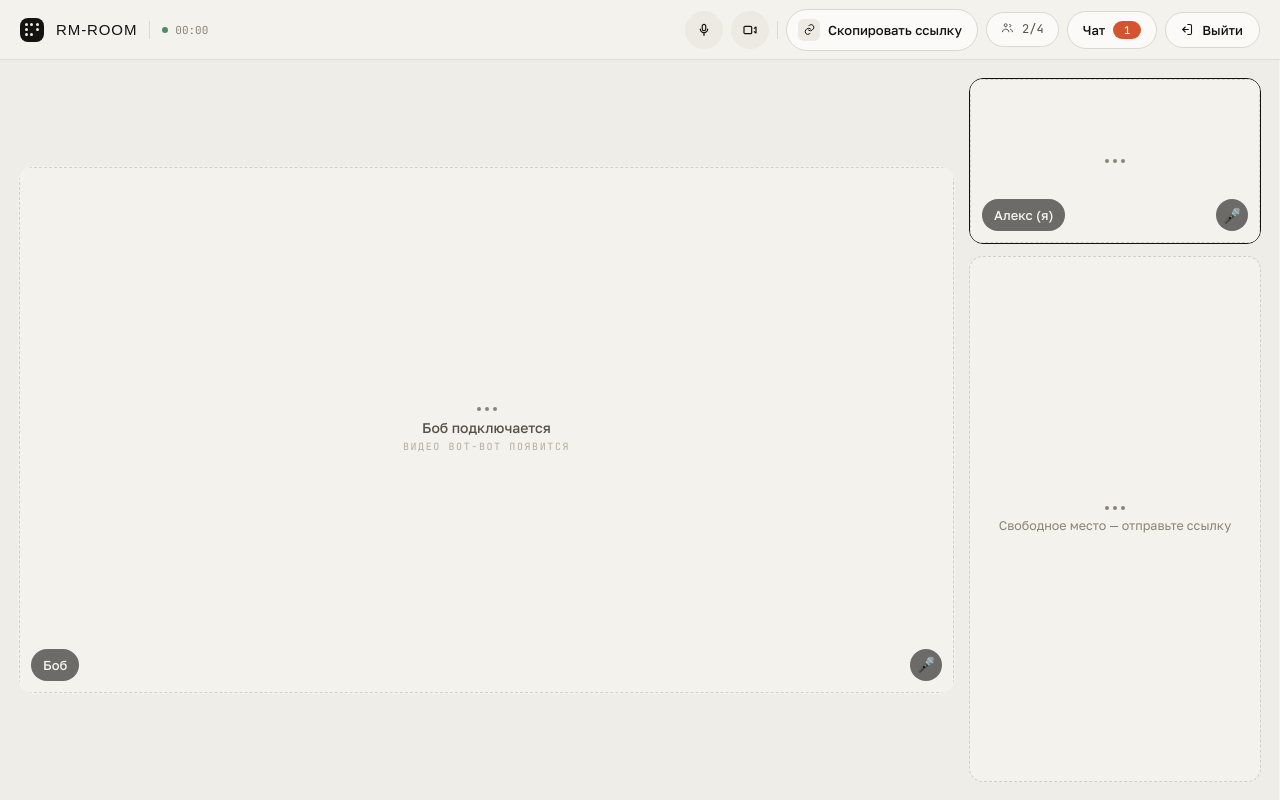
Test case: RoomScreen (Design §4.2/§5.3/§7.1, критерий приёмки задачи 24) › Задача 41 — сворачиваемая панель Чат/Участники (addendum §5.4, критерий приёмки) › открытие панели кнопкой «Чат» сбрасывает unreadCount в 0
expect the text with test id "chat-unread-badge" reads "1": met, box x1=1124 y1=22 x2=1130 y2=36
Click the button with test id "chat-toggle-button".
click(1112, 30)  # box x1=1067 y1=10 x2=1157 y2=48
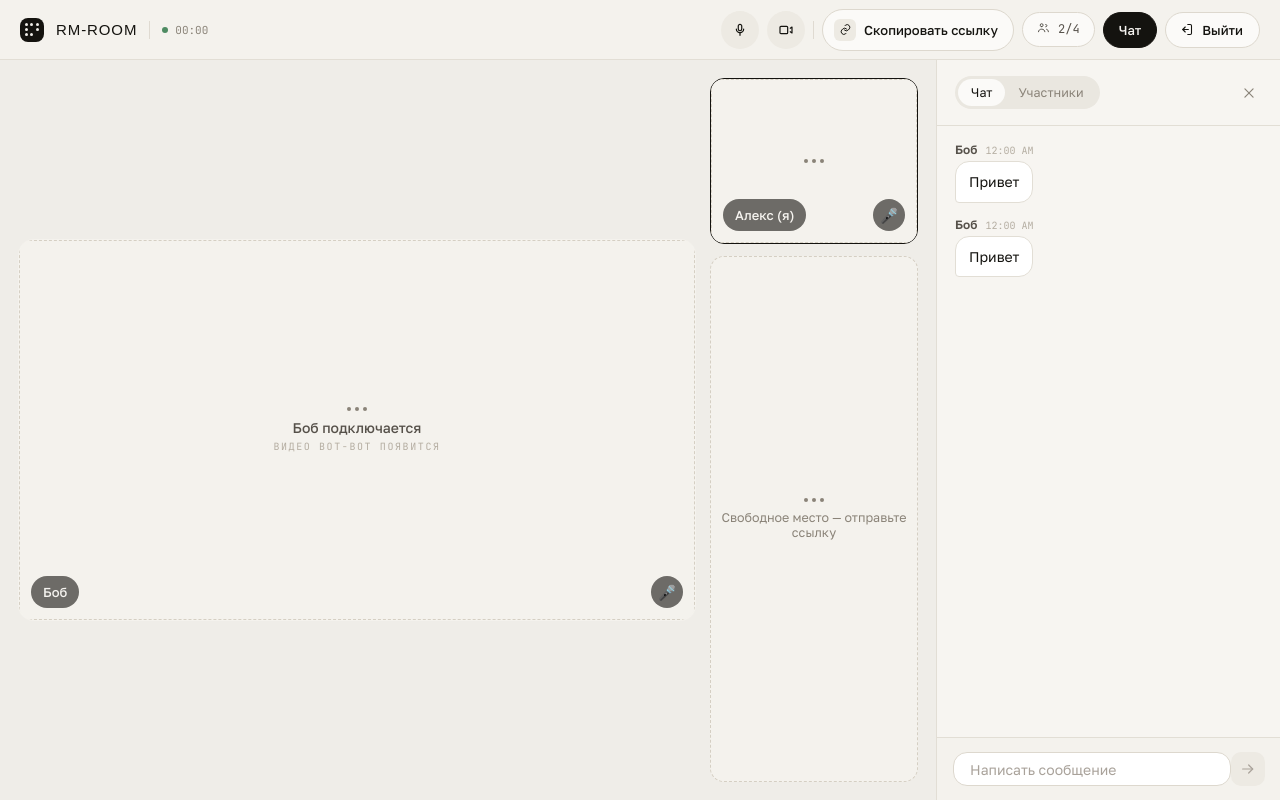
expect the text with test id "chat-unread-badge" is gone: met
